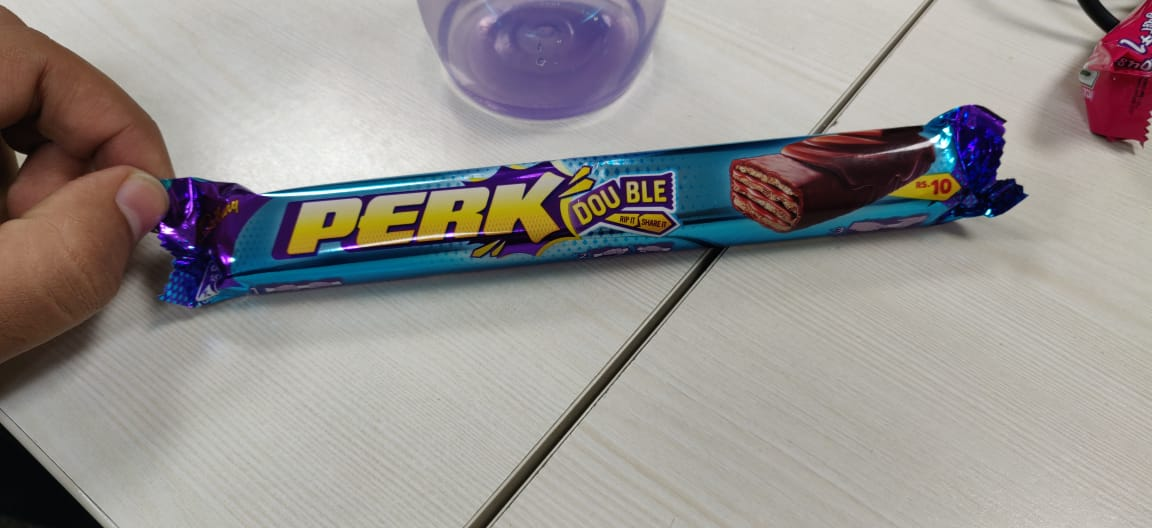perk: (121, 97, 1052, 316)
